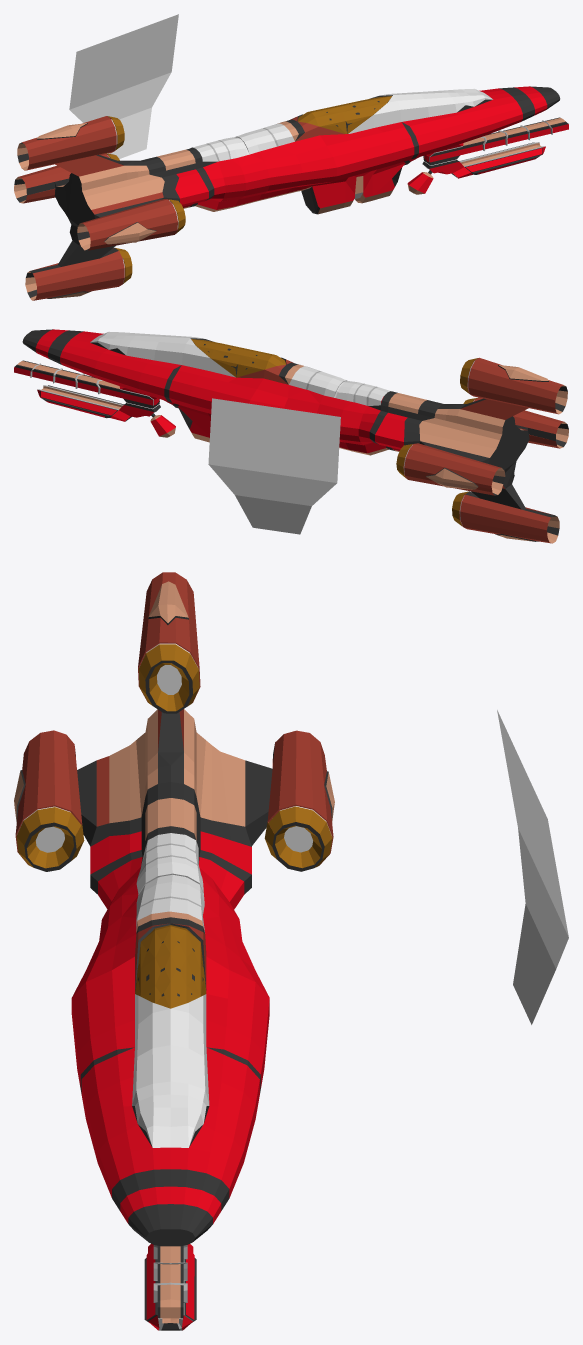
File: WCS.fbx
3 renders of one model, top to bottom at view 1: azimuth 30°, elevation 25°; view 2: azimuth 150°, elevation 25°; view 3: azimuth 270°, elevation 25°, orthographic. The views are drawn at different scales.
Visible parts, largest first — view 1: WUPGSHIELD.001, WCSSHIELD; view 2: WUPGSHIELD.001, WCSSHIELD; view 3: WUPGSHIELD.001, WCSSHIELD.
Boxes of the visible parts, <box> form: WUPGSHIELD.001: <box>14,86,568,300</box>; WCSSHIELD: <box>69,14,178,158</box>; WUPGSHIELD.001: <box>14,329,568,543</box>; WCSSHIELD: <box>208,398,340,534</box>; WUPGSHIELD.001: <box>14,572,334,1330</box>; WCSSHIELD: <box>497,710,568,1024</box>.
Size of the model in its own units: 481 by 144 by 218.
